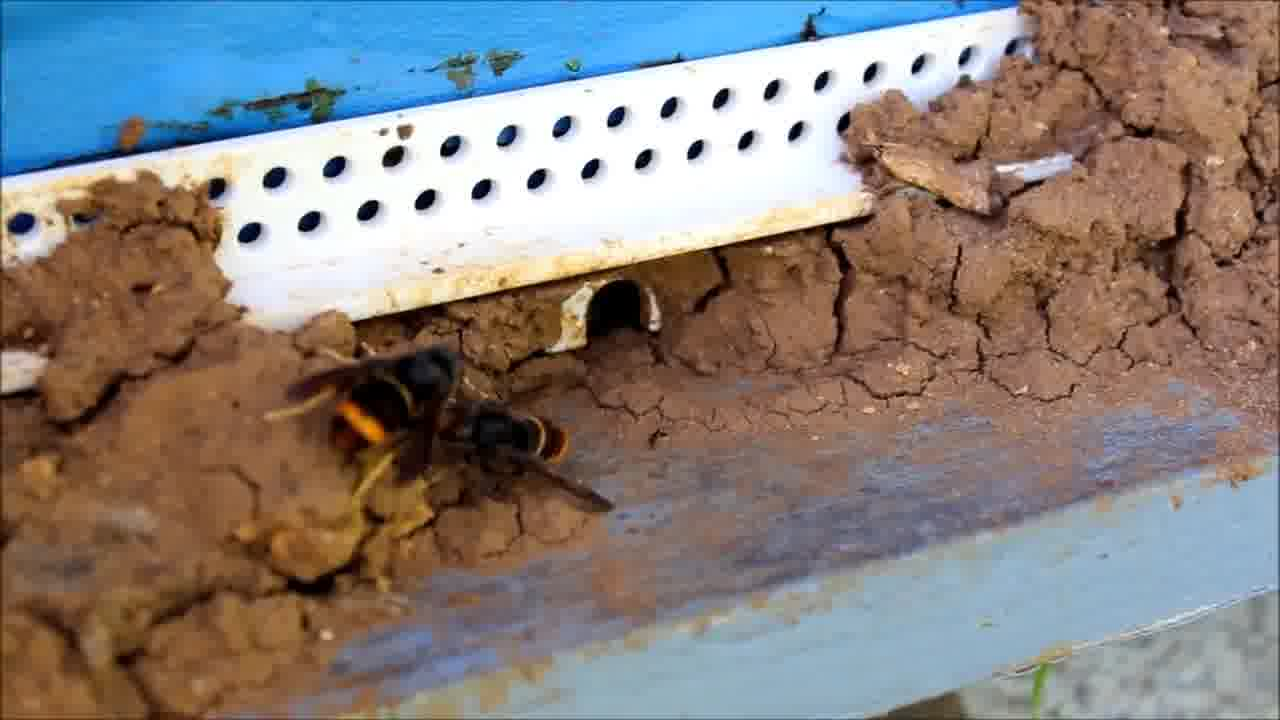hornet: (305, 339, 474, 497), (462, 393, 615, 508)
